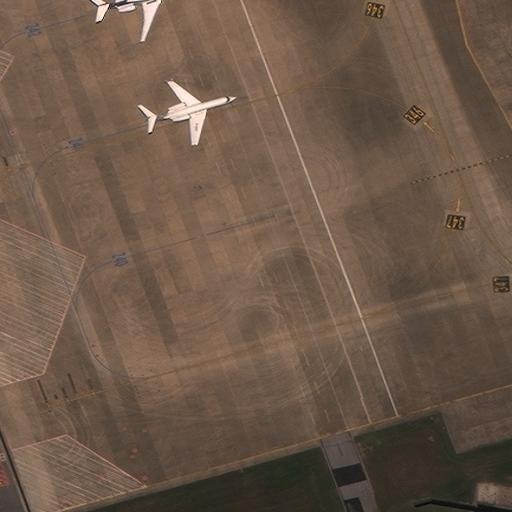Medium Civil Transport: (147, 81, 235, 146), (95, 0, 177, 39)
